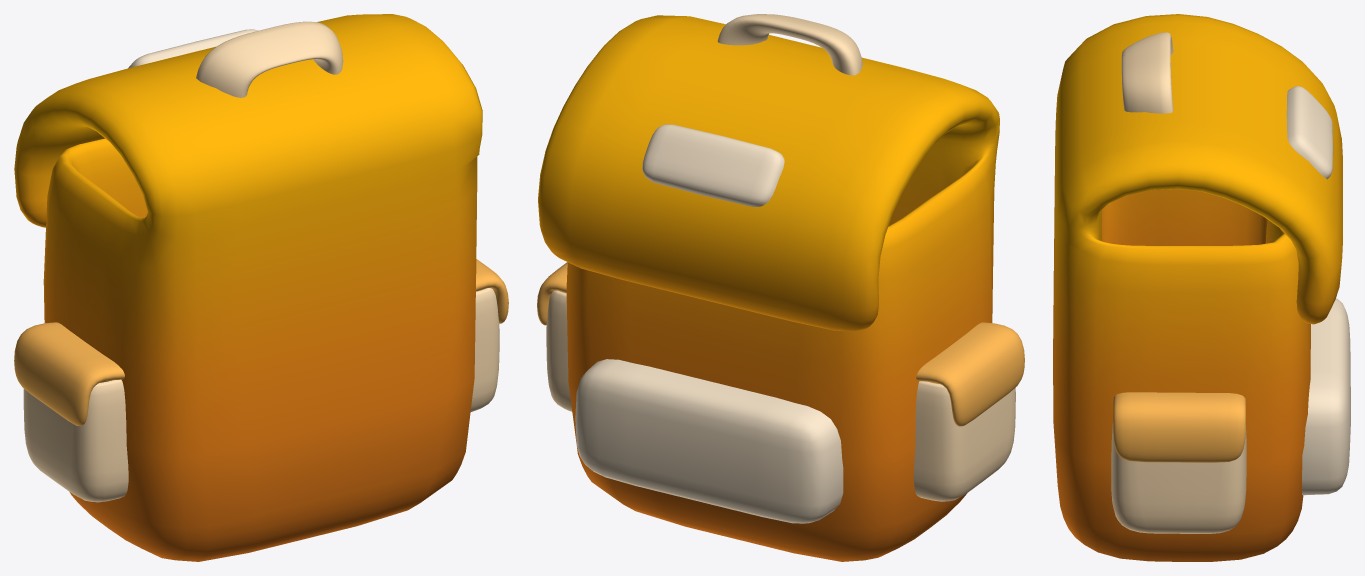
The model's file is Player_Backpag3.fbx.
3 views of the same model, side by side, from view 1: azimuth 30°, elevation 25°; view 2: azimuth 150°, elevation 25°; view 3: azimuth 270°, elevation 25° (orthographic). The views are drawn at different scales.
Visible parts, largest first — view 1: Player_Backpag_Yellow; view 2: Player_Backpag_Yellow; view 3: Player_Backpag_Yellow.
Boxes of the visible parts, <box> form: Player_Backpag_Yellow: <box>14,14,508,561</box>; Player_Backpag_Yellow: <box>537,14,1024,561</box>; Player_Backpag_Yellow: <box>1053,14,1350,561</box>.
Size of the model in its own units: 1.15 by 1.25 by 0.7214.
